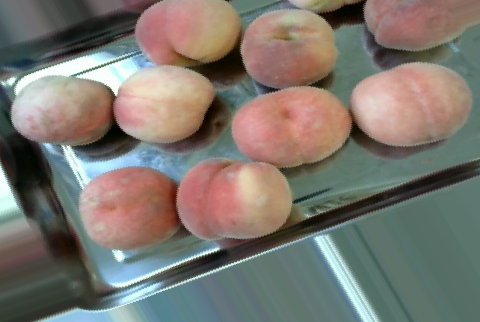Peach: (350, 60, 472, 146), (230, 84, 349, 166), (175, 159, 291, 240), (79, 167, 182, 249), (111, 66, 217, 141), (9, 72, 116, 144), (242, 7, 337, 88), (134, 0, 241, 65), (364, 0, 467, 49)
